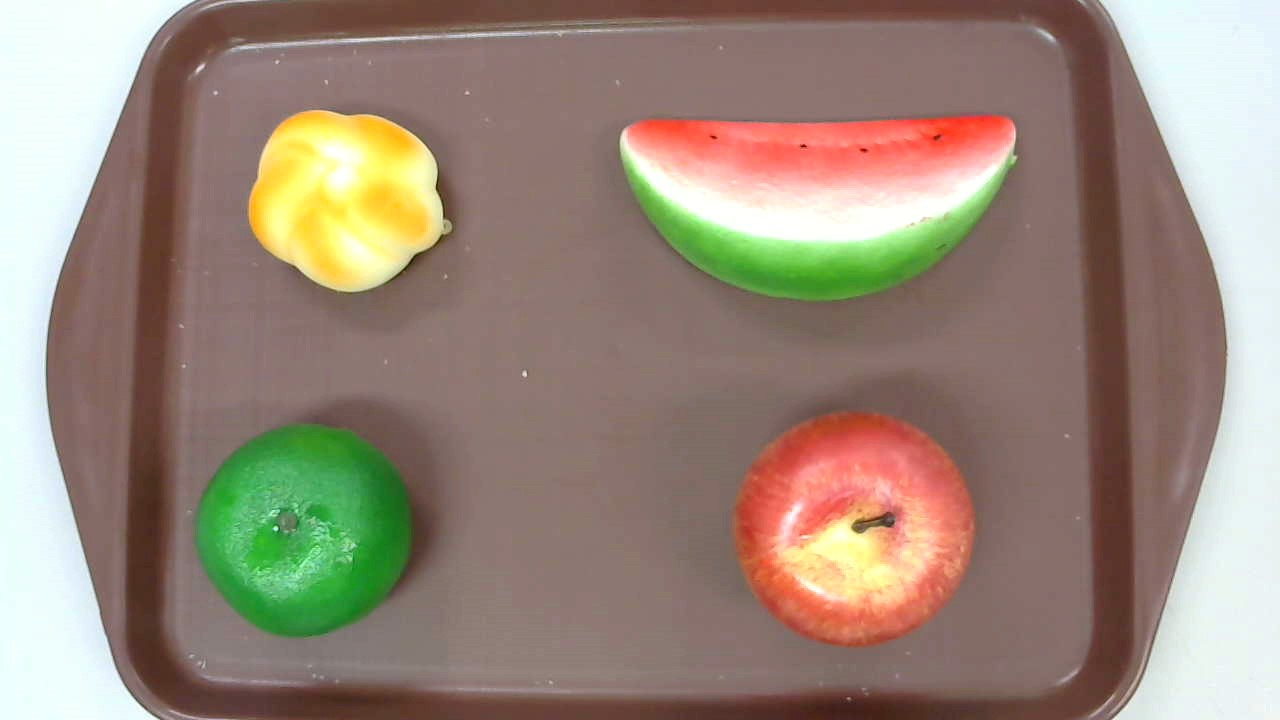green orange: (194, 424, 412, 637)
red apple: (733, 411, 974, 650)
twist bread: (247, 109, 453, 294)
watermelon: (618, 113, 1017, 302)
